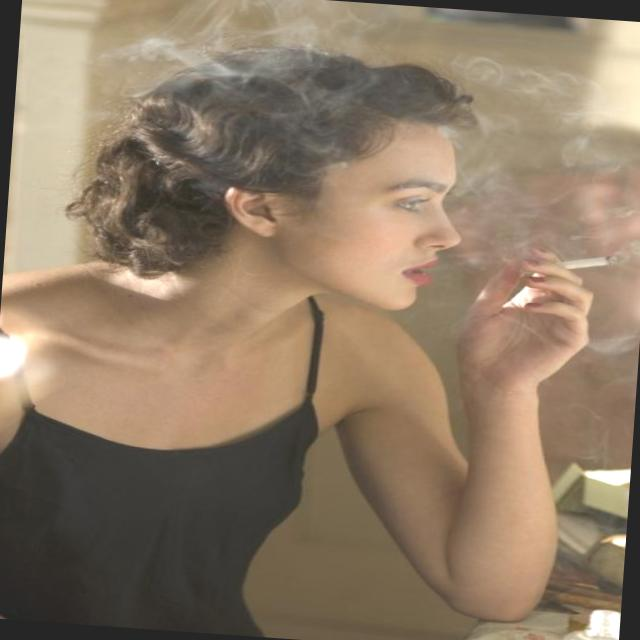cigarette: (556, 245, 628, 272)
